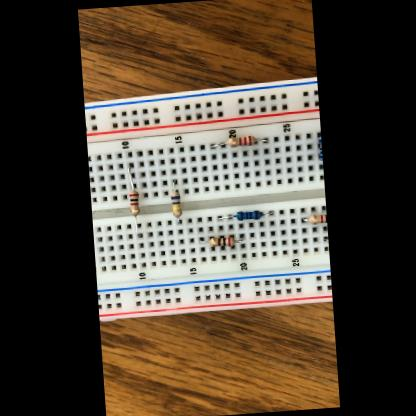breadboard: (83, 75, 332, 321)
resistor: (206, 235, 234, 247), (170, 190, 182, 218), (226, 135, 256, 146), (128, 189, 140, 215), (235, 209, 260, 220), (306, 214, 326, 223), (316, 134, 322, 160)
wire: (127, 164, 134, 190), (134, 216, 140, 236), (210, 141, 227, 147), (216, 214, 235, 219), (234, 234, 244, 242), (260, 210, 272, 216), (256, 136, 268, 141), (198, 238, 208, 243), (173, 180, 176, 191), (324, 236, 328, 242), (301, 218, 307, 221)
